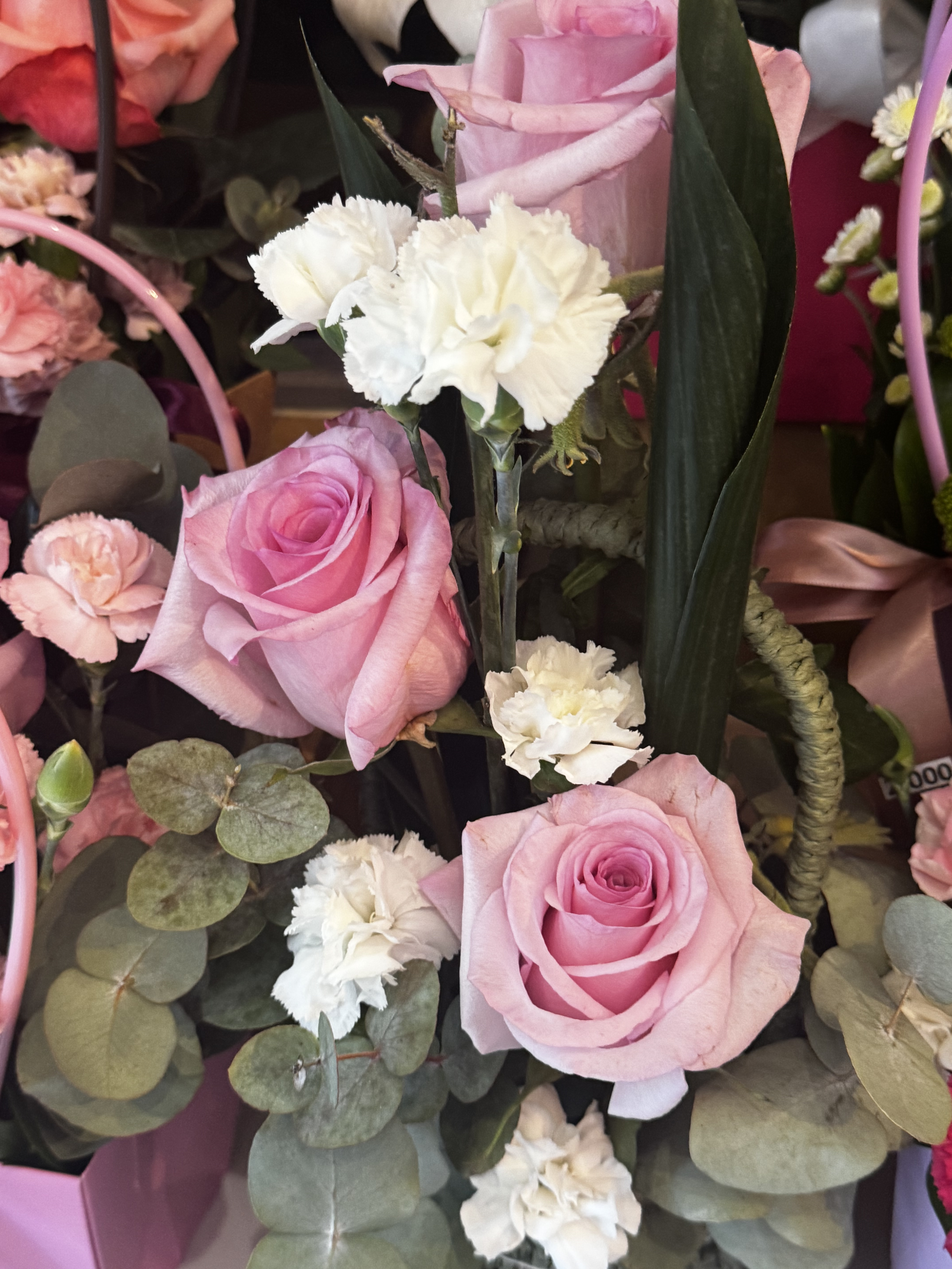rose: (417, 746, 815, 1118), (129, 415, 494, 766), (398, 5, 832, 278)
